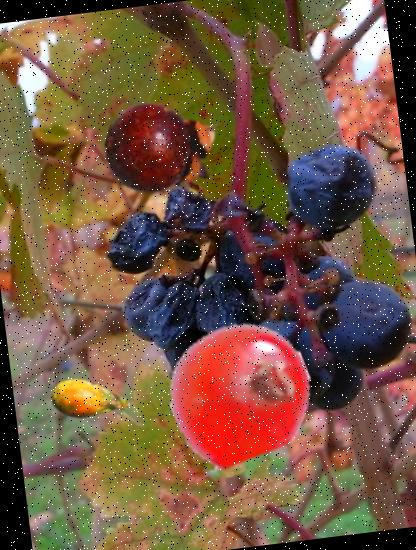Cactus: (46, 356, 135, 445)
Mangostan: (98, 88, 223, 214)
Redcurrant: (161, 314, 318, 471)
